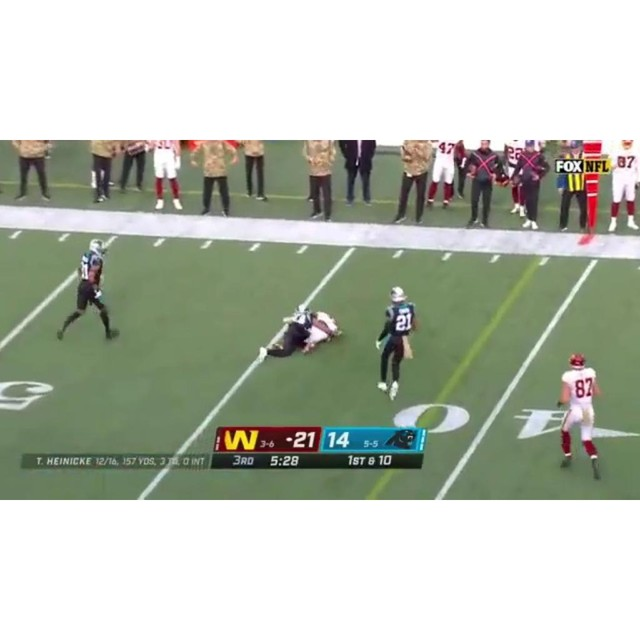american-football-player: (56, 241, 116, 343), (556, 353, 603, 479), (375, 286, 418, 401), (260, 307, 326, 361)
